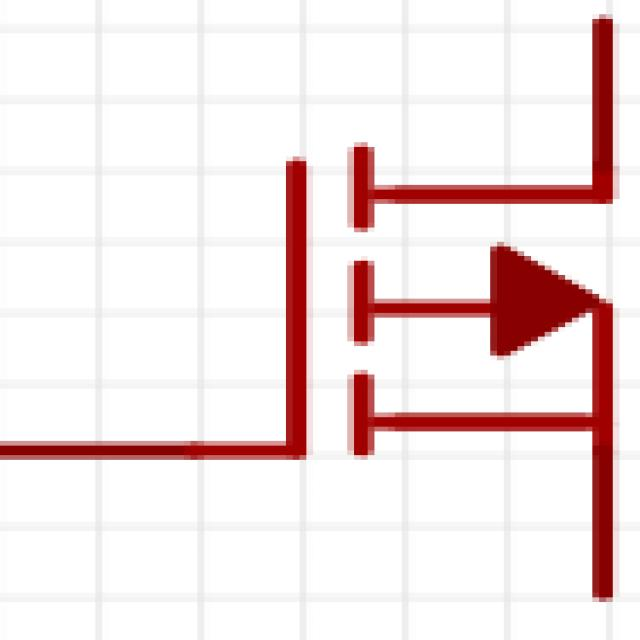pmos: (9, 12, 640, 618)
